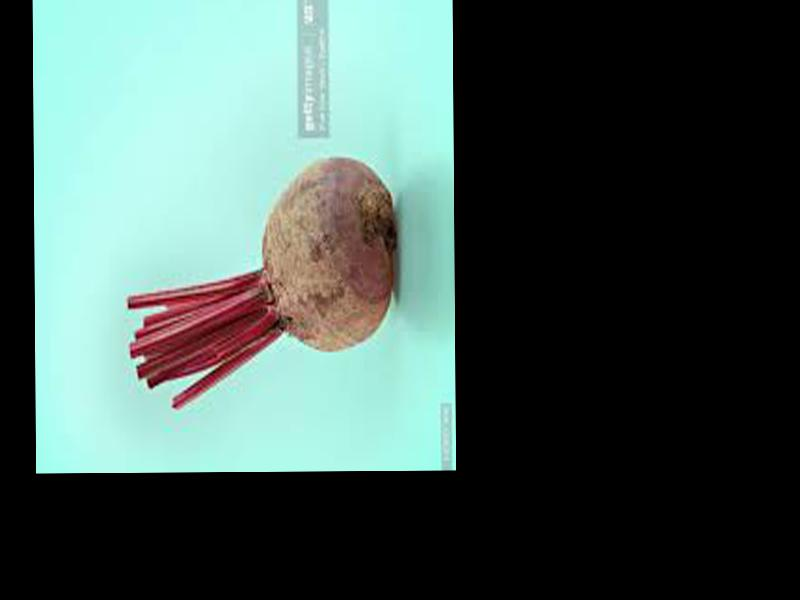Beet: (129, 156, 398, 407)
